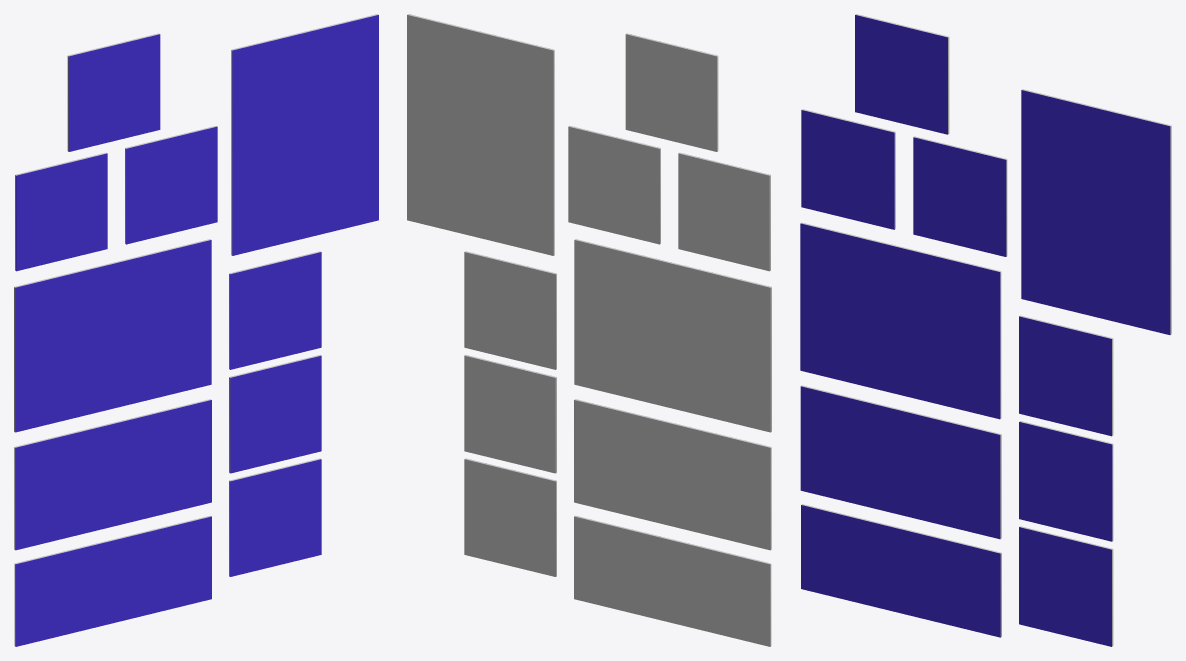
Rendered from LDawningScott-09.FBX.
The picture shows the model from 3 angles, left to right: view 1: azimuth 30°, elevation 25°; view 2: azimuth 150°, elevation 25°; view 3: azimuth 330°, elevation 25°; orthographic projection.
Visible parts, largest first — view 1: Dawning_63, Dawning_59, Dawning_60, Dawning_61, Dawning_66, Dawning_62, Dawning_65C, Dawning_65A, Dawning_64, Dawning_65B; view 2: Dawning_63, Dawning_59, Dawning_60, Dawning_61, Dawning_66, Dawning_62, Dawning_65C, Dawning_65A, Dawning_64, Dawning_65B; view 3: Dawning_63, Dawning_59, Dawning_60, Dawning_61, Dawning_62, Dawning_65B, Dawning_66, Dawning_65C, Dawning_65A, Dawning_64.
Part boxes in pixels (<box>): Dawning_63: <box>231,14,378,255</box>; Dawning_59: <box>14,239,211,432</box>; Dawning_60: <box>14,399,211,550</box>; Dawning_61: <box>14,515,211,646</box>; Dawning_66: <box>67,33,160,151</box>; Dawning_62: <box>15,152,107,271</box>; Dawning_65C: <box>229,458,321,576</box>; Dawning_65A: <box>229,251,321,369</box>; Dawning_64: <box>125,126,217,244</box>; Dawning_65B: <box>229,355,321,473</box>; Dawning_63: <box>407,14,554,255</box>; Dawning_59: <box>574,239,771,432</box>; Dawning_60: <box>574,399,771,550</box>; Dawning_61: <box>574,515,771,646</box>; Dawning_66: <box>625,33,718,151</box>; Dawning_62: <box>678,152,770,271</box>; Dawning_65C: <box>464,458,556,576</box>; Dawning_65A: <box>464,251,556,369</box>; Dawning_64: <box>568,126,660,244</box>; Dawning_65B: <box>464,355,556,473</box>; Dawning_63: <box>1021,89,1171,334</box>; Dawning_59: <box>800,222,1001,419</box>; Dawning_60: <box>800,385,1001,539</box>; Dawning_61: <box>801,504,1001,637</box>; Dawning_62: <box>801,109,895,229</box>; Dawning_65B: <box>1019,421,1113,541</box>; Dawning_66: <box>855,14,949,134</box>; Dawning_65C: <box>1019,526,1113,646</box>; Dawning_65A: <box>1019,315,1113,436</box>; Dawning_64: <box>913,136,1007,256</box>.
Bounding box in the file's own units: 2778 × 4214 × 16.
